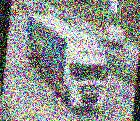truck: (16, 13, 112, 110), (98, 23, 125, 50)
